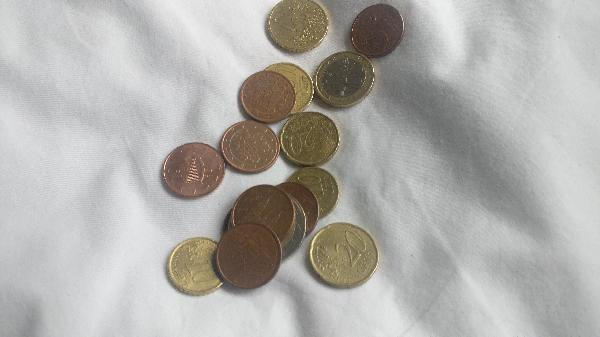Five Cent: (219, 222, 281, 290), (229, 184, 296, 244), (162, 142, 227, 194), (224, 122, 279, 175), (347, 5, 403, 57), (241, 72, 298, 123)
One Euro: (315, 52, 379, 108)
Ten Cent: (163, 236, 234, 297), (287, 168, 339, 218)
Twenty Cent: (311, 222, 379, 289), (264, 1, 330, 54), (285, 114, 340, 166)
